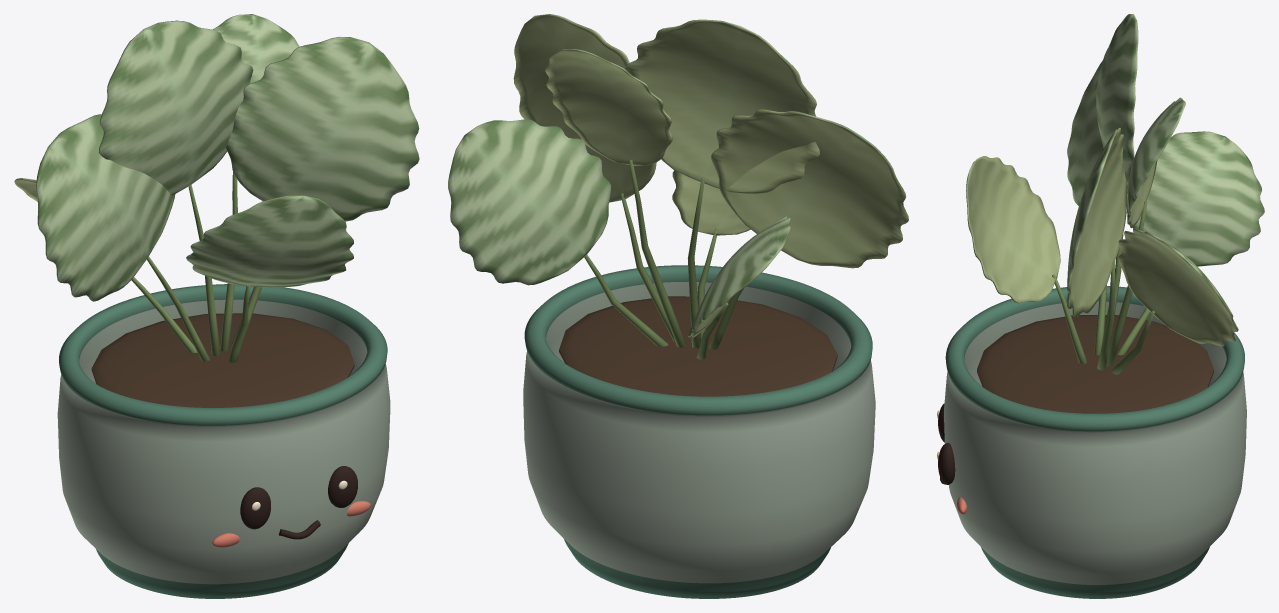
File: orbifolia-v1.glb
The picture shows the model from 3 angles, left to right: view 1: azimuth 30°, elevation 25°; view 2: azimuth 150°, elevation 25°; view 3: azimuth 270°, elevation 25°; orthographic projection. The views are drawn at different scales.
Parts seen in each view (by area): view 1: Orbifolia silver discs, Wheel-thrown ceramic, Soil, Eye, Eye.001; view 2: Orbifolia silver discs, Wheel-thrown ceramic, Soil; view 3: Wheel-thrown ceramic, Orbifolia silver discs, Soil, Eye.001.
Boxes of the visible parts, <box> form: Orbifolia silver discs: <box>14,14,419,362</box>; Wheel-thrown ceramic: <box>57,284,390,598</box>; Soil: <box>91,313,354,407</box>; Eye: <box>240,487,270,529</box>; Eye.001: <box>328,466,357,507</box>; Orbifolia silver discs: <box>448,14,908,359</box>; Wheel-thrown ceramic: <box>523,265,875,598</box>; Soil: <box>559,296,837,396</box>; Wheel-thrown ceramic: <box>944,286,1246,598</box>; Orbifolia silver discs: <box>966,14,1264,374</box>; Soil: <box>977,315,1213,413</box>; Eye.001: <box>938,443,955,484</box>.
Size of the model in its own units: 2.07 by 2.78 by 1.61.
